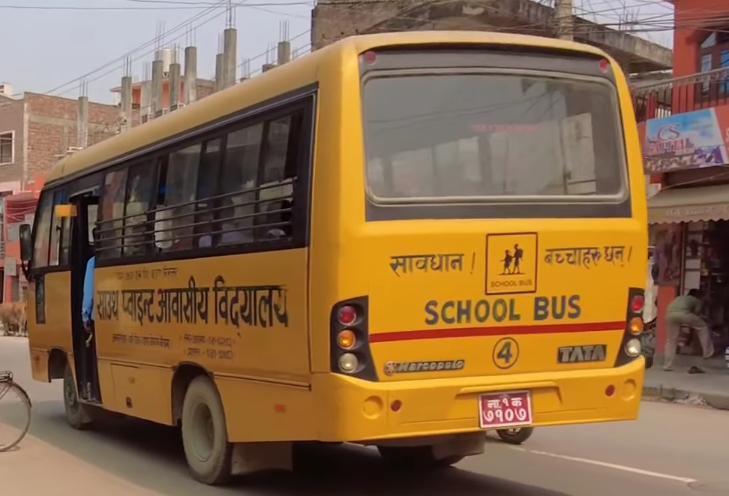school_bus: (9, 25, 649, 492)
